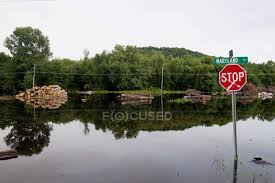Stop: (210, 59, 258, 100)
